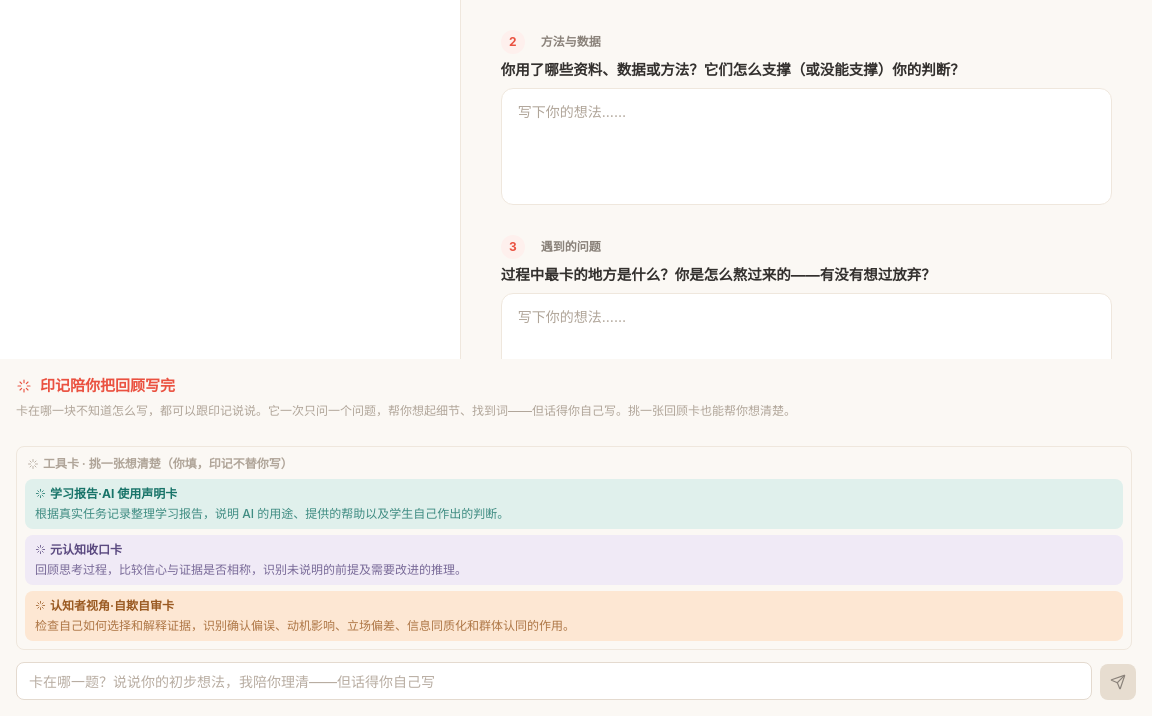
Test: ReviewBlock · AI-use retrospective (S5) › supportive reflection-completion thread sends a reflection-scope coach turn through the shared Composer
(page scrolled)
Type "我的结论是不是太弱了" into the text box with placeholder "卡在哪一题？说说你的初步想法，我陪你理清——但话得你自己写" at {"x": 554, "y": 680}, box [16,662,1092,700]
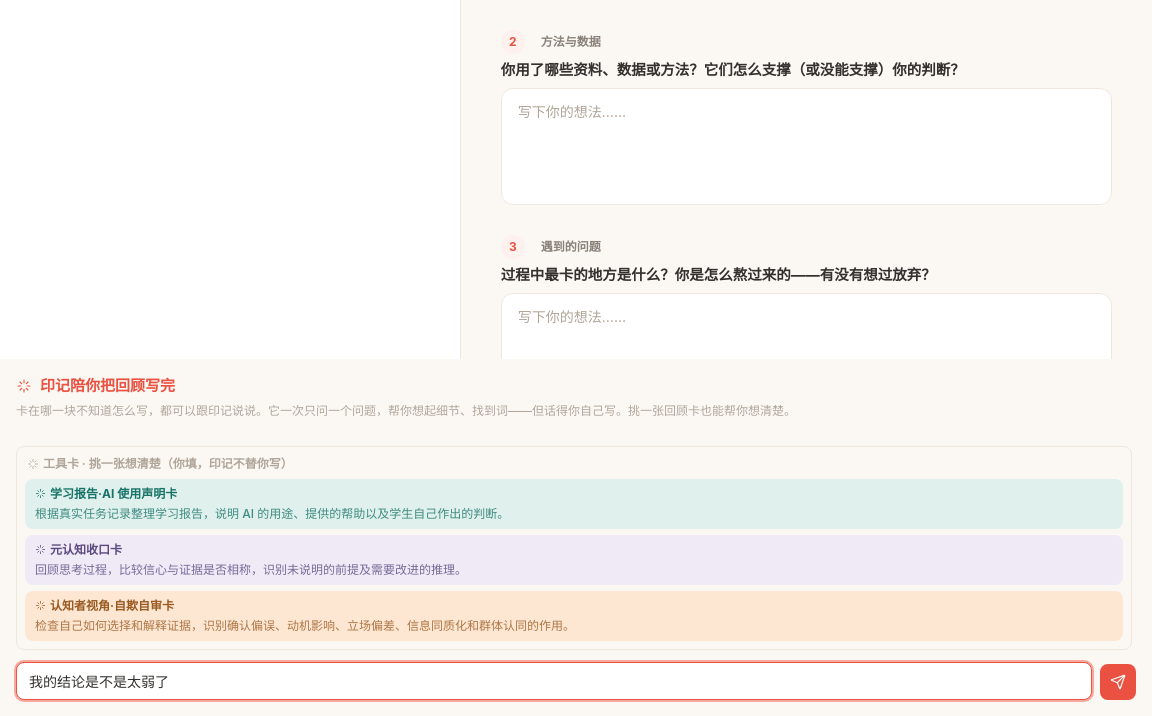
Click the button named "发送" at {"x": 1118, "y": 682}, box [1100,664,1136,700]
(page scrolled)
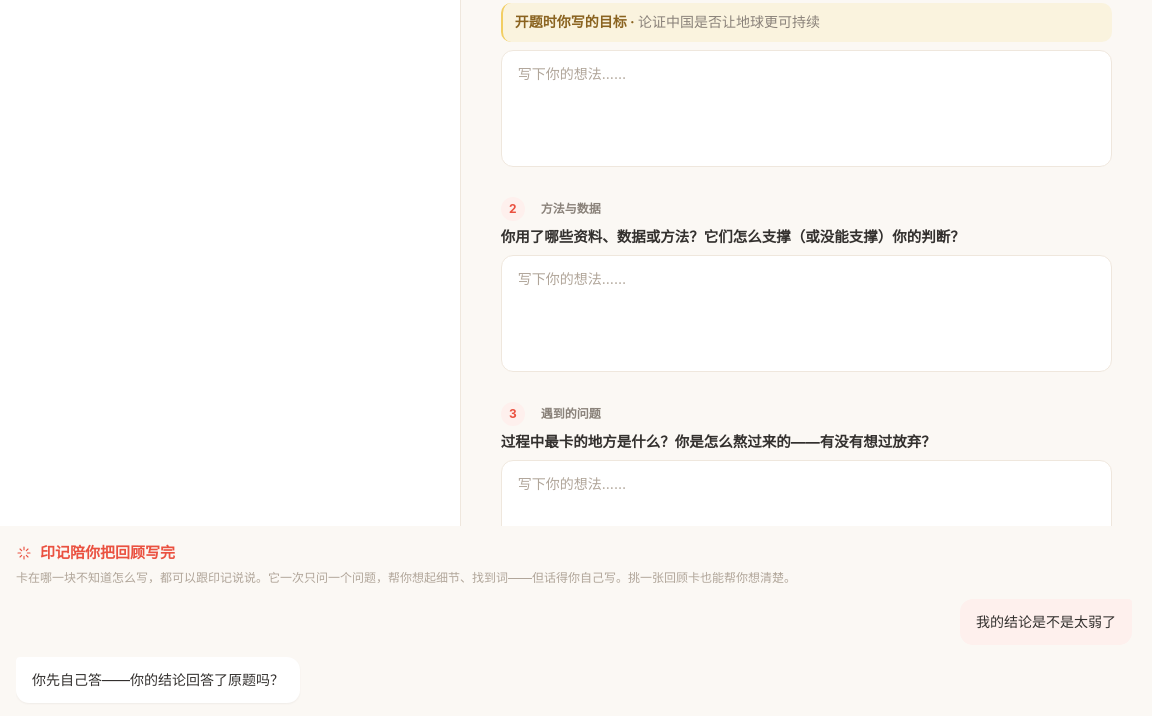
Result: the text "我的结论是不是太弱了" is shown at [960,598,1132,645]
Result: the text "你先自己答——你的结论回答了原题吗？" is shown at [32,669,284,691]
